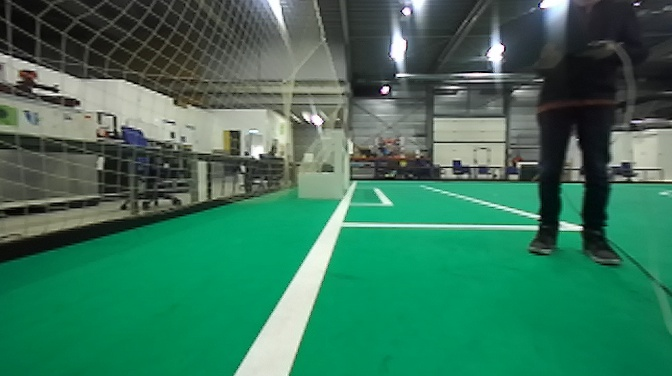goalpost: (331, 127, 347, 202)
human: (516, 1, 627, 278)
